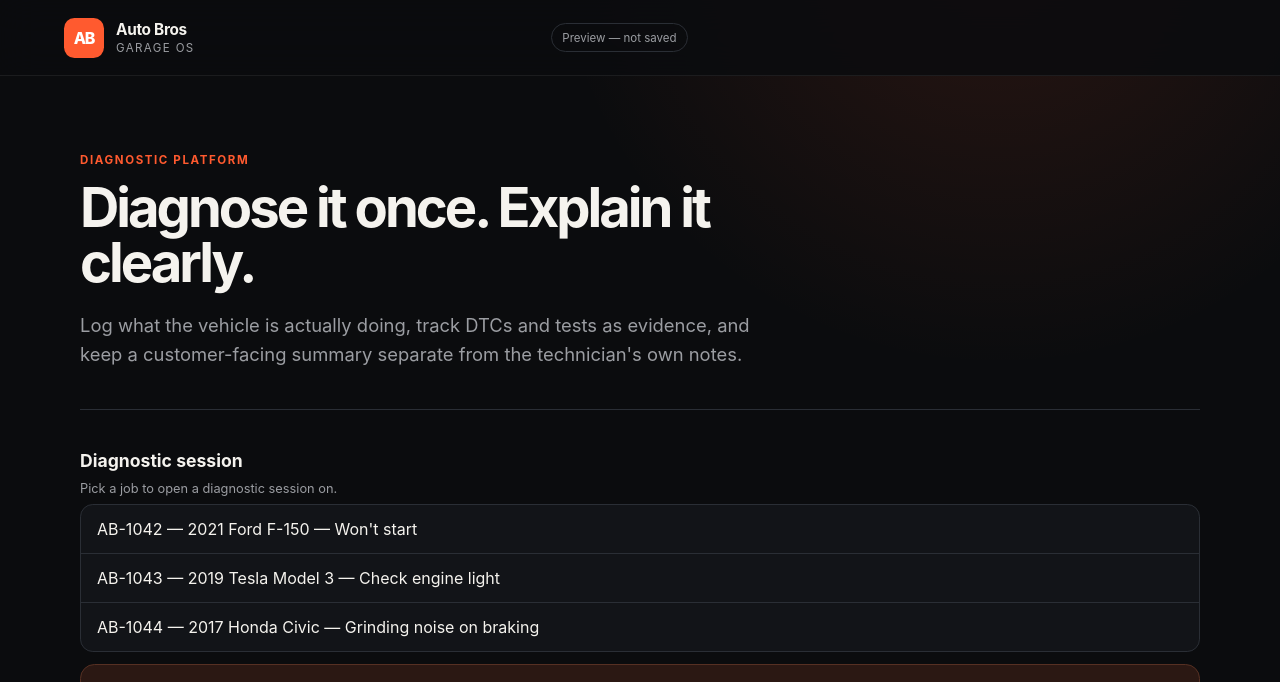
DiagnosticsPage › requires a finding before a test can be logged
Click the button "AB-1042 — 2021 Ford F-150 — Won't start" at {"x": 257, "y": 529}, box [81,505,1199,553]
(page scrolled)
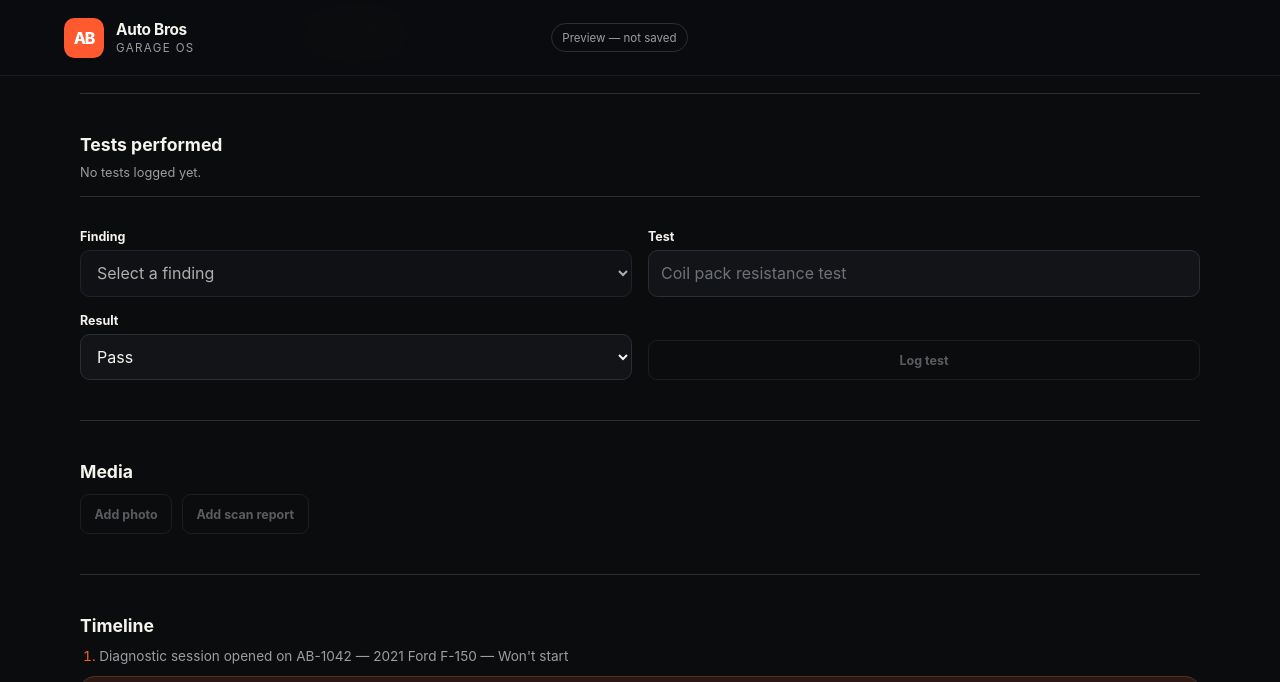
Expected: the dropdown labelled "Finding" is disabled, [80,250,632,296]
Expected: the button "Log test" is disabled, [648,340,1200,380]
